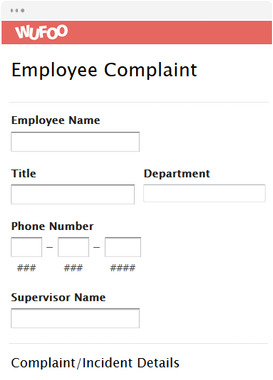_form_: (1, 1, 273, 380)
field: (7, 131, 141, 154), (11, 307, 140, 330), (9, 182, 136, 205), (141, 183, 266, 204), (56, 236, 92, 260), (103, 237, 140, 259), (9, 236, 42, 258)
field_with_label: (5, 115, 143, 156), (9, 291, 142, 331), (7, 167, 138, 206), (140, 168, 268, 206)
